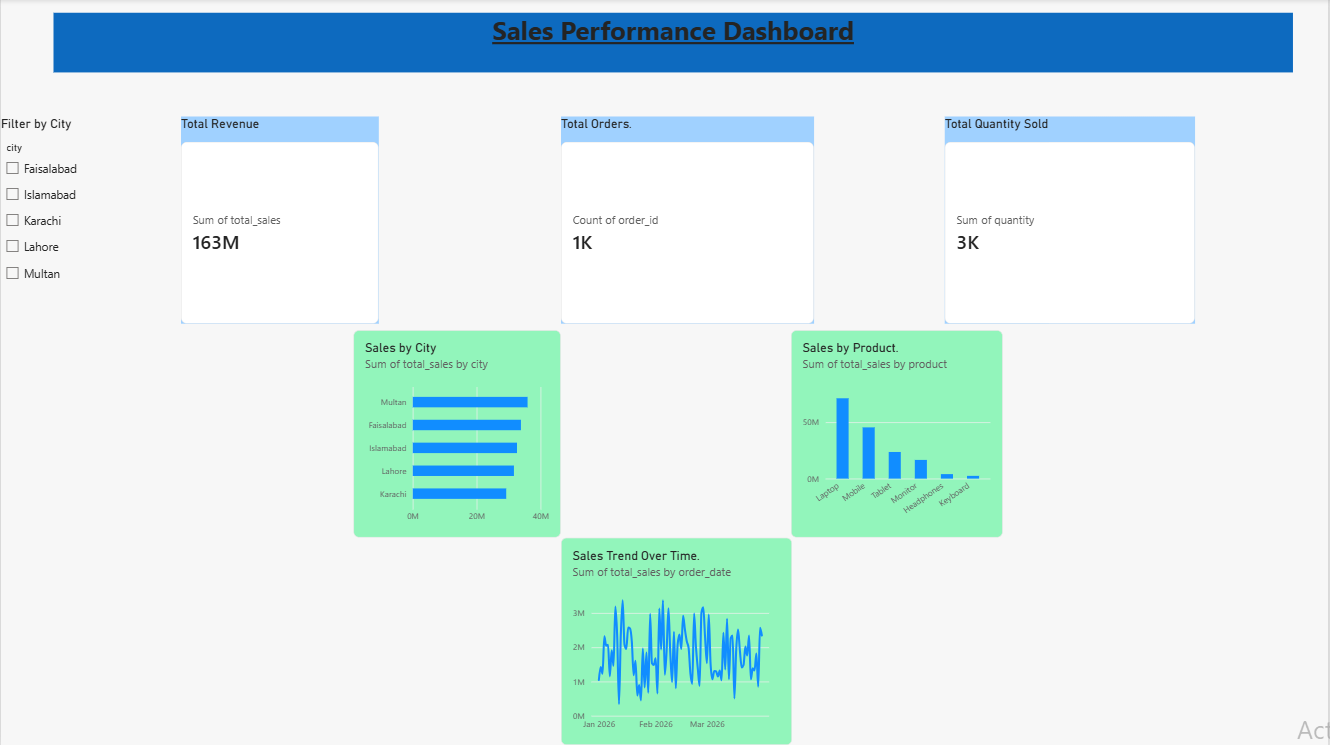

What the dashboard file says about the page in this screenshot:
{"tool":"powerbi","page":{"name":"Page 1","canvas":[1920,1080],"ordinal":0},"visuals":[{"type":"cardVisual","title":"Total Revenue","fields":{"Data":["Sum(New_Query_2026_10_15_23_06_08.total_sales)"]},"box":[260,170,286,300],"z":0},{"type":"cardVisual","title":"Total Orders.","fields":{"Data":["Count(New_Query_2026_10_15_23_06_08.order_id)"]},"box":[810,170,366,300],"z":1},{"type":"cardVisual","title":"Total Quantity Sold","fields":{"Data":["Sum(New_Query_2026_10_15_23_06_08.quantity)"]},"box":[1366,170,362,300],"z":2},{"type":"clusteredBarChart","title":"Sales by City","fields":{"Category":["New_Query_2026_10_15_23_06_08.city"],"Y":["Sum(New_Query_2026_10_15_23_06_08.total_sales)"]},"box":[510,480,300,300],"z":3},{"type":"clusteredColumnChart","title":"Sales by Product.","fields":{"Category":["New_Query_2026_10_15_23_06_08.product"],"Y":["Sum(New_Query_2026_10_15_23_06_08.total_sales)"]},"box":[1144,480,306,300],"z":4},{"type":"lineChart","title":"Sales Trend Over Time.","fields":{"Category":["New_Query_2026_10_15_23_06_08.order_date"],"Y":["Sum(New_Query_2026_10_15_23_06_08.total_sales)"]},"box":[810,780,334,300],"z":5},{"type":"slicer","title":"Filter by City","fields":{"Values":["New_Query_2026_10_15_23_06_08.city"]},"box":[0,170,300,300],"z":6},{"type":"textbox","box":[76,20,1794,86],"z":8}]}

Visuals, with their boxes in screenshot pixels (x1, y1, x2, y2):
"Total Revenue" cardVisual: rect(184, 112, 378, 316)
"Total Orders." cardVisual: rect(558, 112, 807, 316)
"Total Quantity Sold" cardVisual: rect(936, 112, 1182, 316)
"Sales by City" clusteredBarChart: rect(354, 323, 558, 527)
"Sales by Product." clusteredColumnChart: rect(785, 323, 993, 527)
"Sales Trend Over Time." lineChart: rect(558, 527, 785, 731)
"Filter by City" slicer: rect(7, 112, 211, 316)
textbox: rect(59, 10, 1278, 69)
